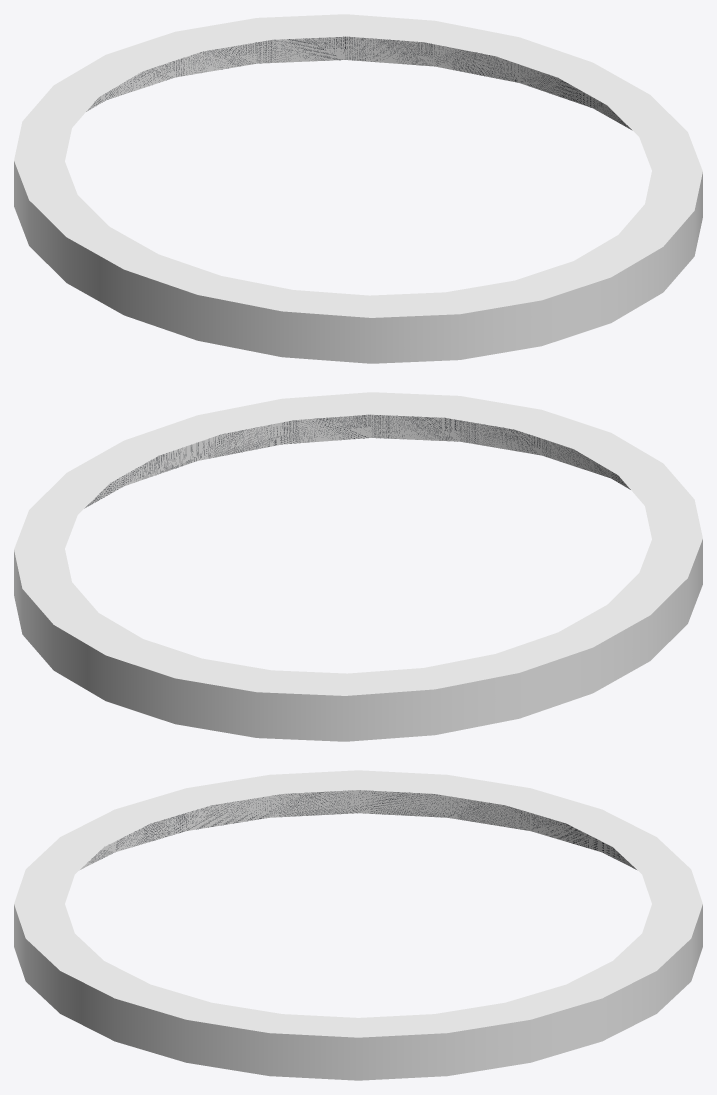
File: original-187.obj
The picture shows the model from 3 angles, top to bottom: view 1: azimuth 30°, elevation 25°; view 2: azimuth 150°, elevation 25°; view 3: azimuth 270°, elevation 25°; orthographic projection. The views are drawn at different scales.
Parts seen in each view (by area): view 1: #ID690; view 2: #ID690; view 3: #ID690.
Boxes of the visible parts, left/top/right/bottom form: #ID690: left=14, top=14, right=702, bottom=363; #ID690: left=14, top=392, right=702, bottom=741; #ID690: left=14, top=770, right=702, bottom=1080.
Size of the model in its own units: 0.0947 by 0.0071 by 0.1031.
Materials: 2 (1 with a texture image).
